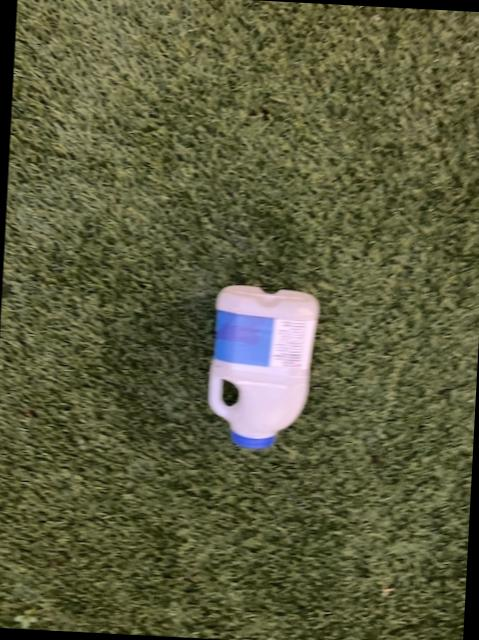plastic: (209, 288, 319, 449)
